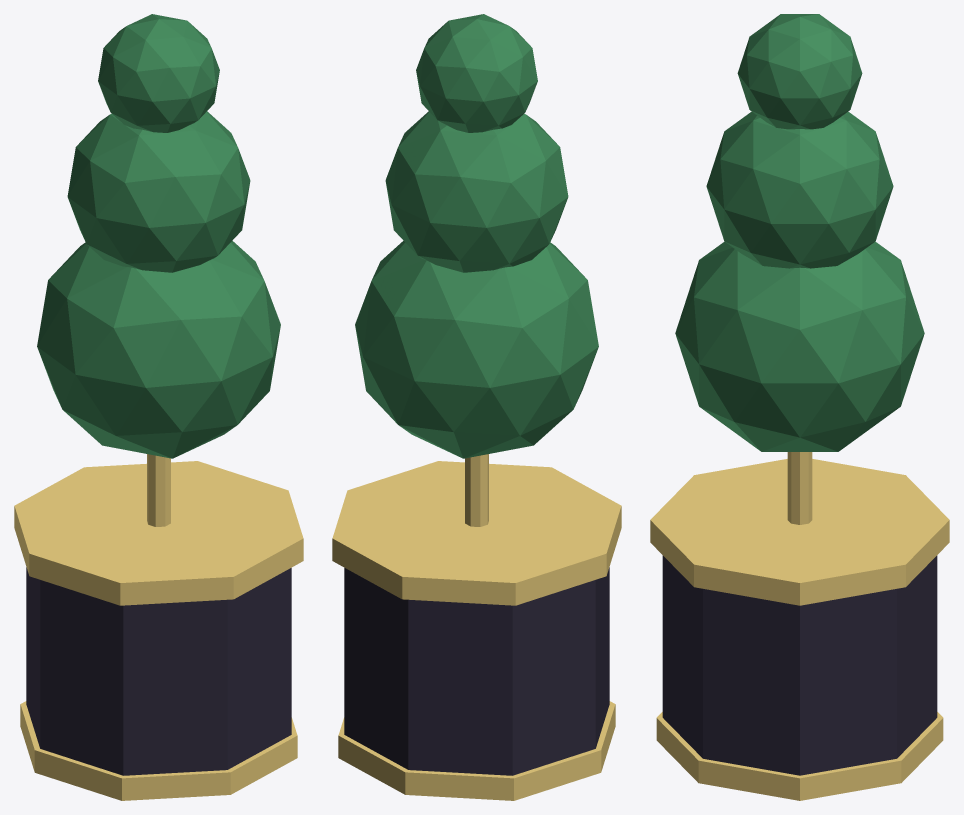
Rendered from Topiary.fbx.
The picture shows the model from 3 angles, left to right: view 1: azimuth 30°, elevation 25°; view 2: azimuth 150°, elevation 25°; view 3: azimuth 270°, elevation 25°; orthographic projection.
Visible parts, largest first — view 1: Topiary_Leaf, Topiary_Dark, Topiary_Gold; view 2: Topiary_Leaf, Topiary_Dark, Topiary_Gold; view 3: Topiary_Leaf, Topiary_Dark, Topiary_Gold.
Boxes of the visible parts, x1=… form: Topiary_Leaf: x1=37, y1=14, x2=280, y2=458; Topiary_Dark: x1=26, y1=567, x2=291, y2=775; Topiary_Gold: x1=14, y1=454, x2=303, y2=800; Topiary_Leaf: x1=355, y1=14, x2=598, y2=458; Topiary_Dark: x1=344, y1=567, x2=609, y2=775; Topiary_Gold: x1=332, y1=454, x2=621, y2=800; Topiary_Leaf: x1=675, y1=14, x2=924, y2=451; Topiary_Dark: x1=662, y1=555, x2=937, y2=775; Topiary_Gold: x1=650, y1=452, x2=949, y2=800.
Bounding box in the file's own units: 2.4 × 6.4 × 2.4.
